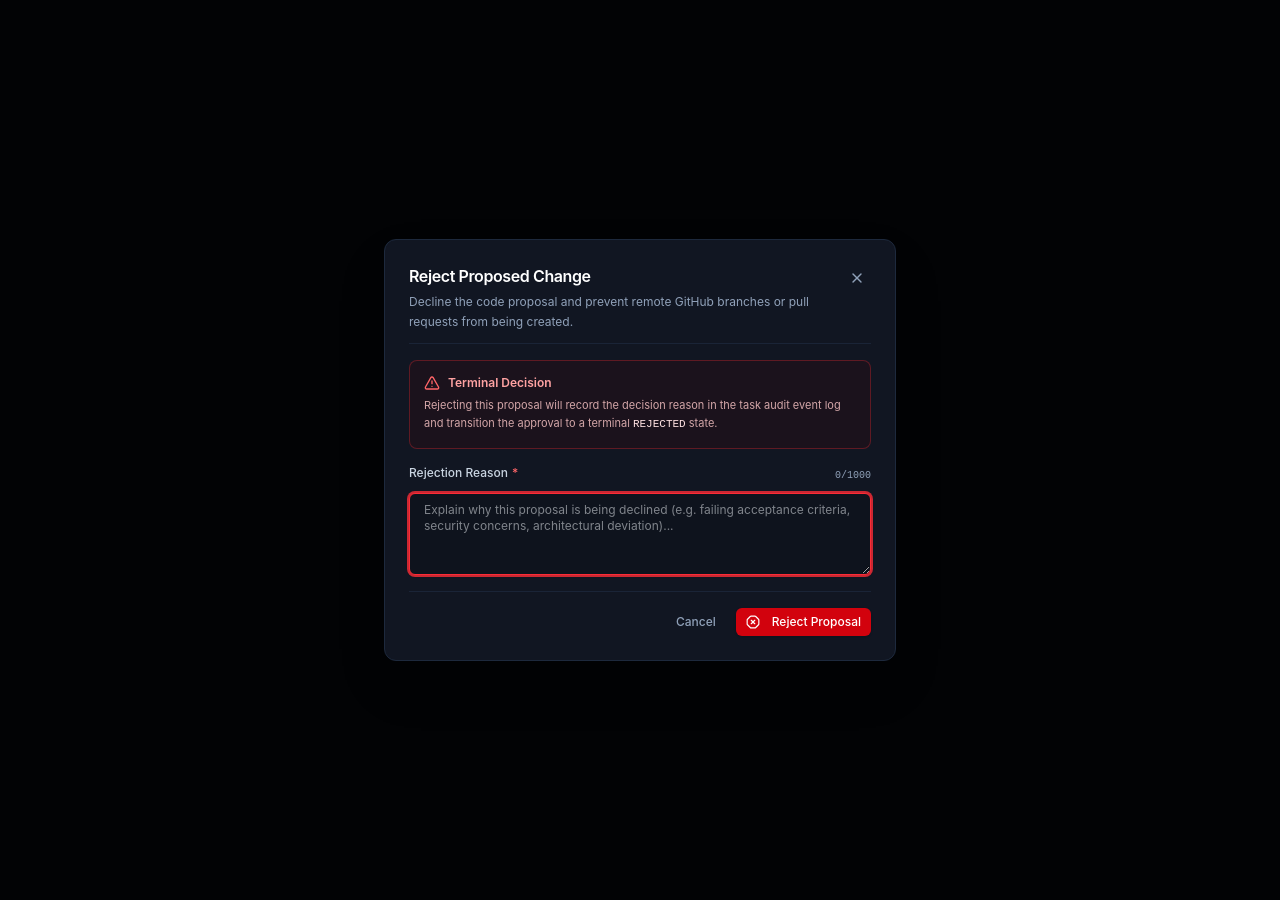
RejectDialog › handles backend 409 conflict and refreshes authoritative state
The width and height of the screenshot is (1280, 900).
Type "Declined due to test regression" into the text box labelled "Rejection Reason*" at (640, 534), box [409,493,871,575]
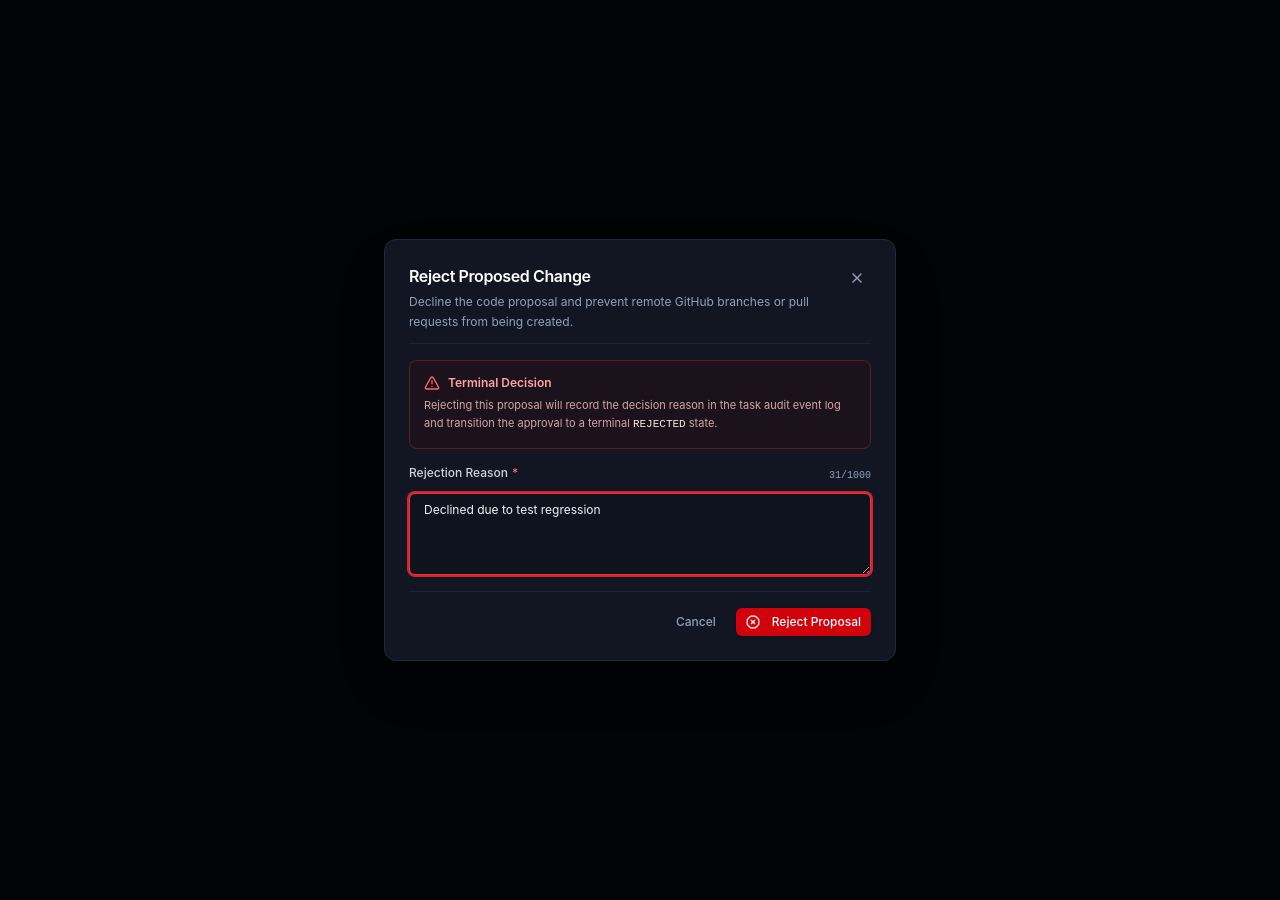
Click the button "Reject Proposal" at (803, 622), box [736,608,871,636]
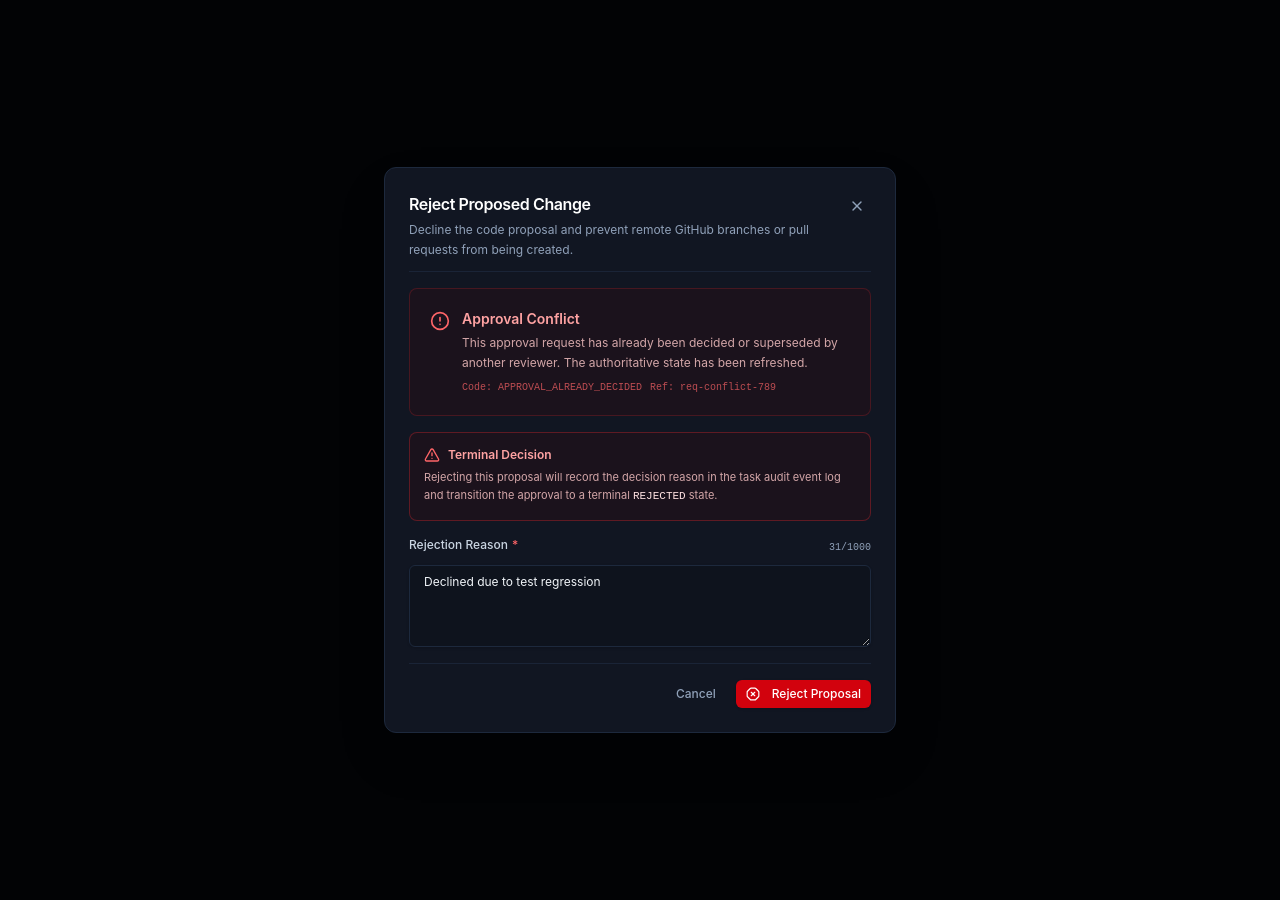
Expected: the heading "Approval Conflict" is shown, [462,310,580,327]
Expected: the text "This approval request has already been decided or superseded" is shown, [462,335,838,370]
